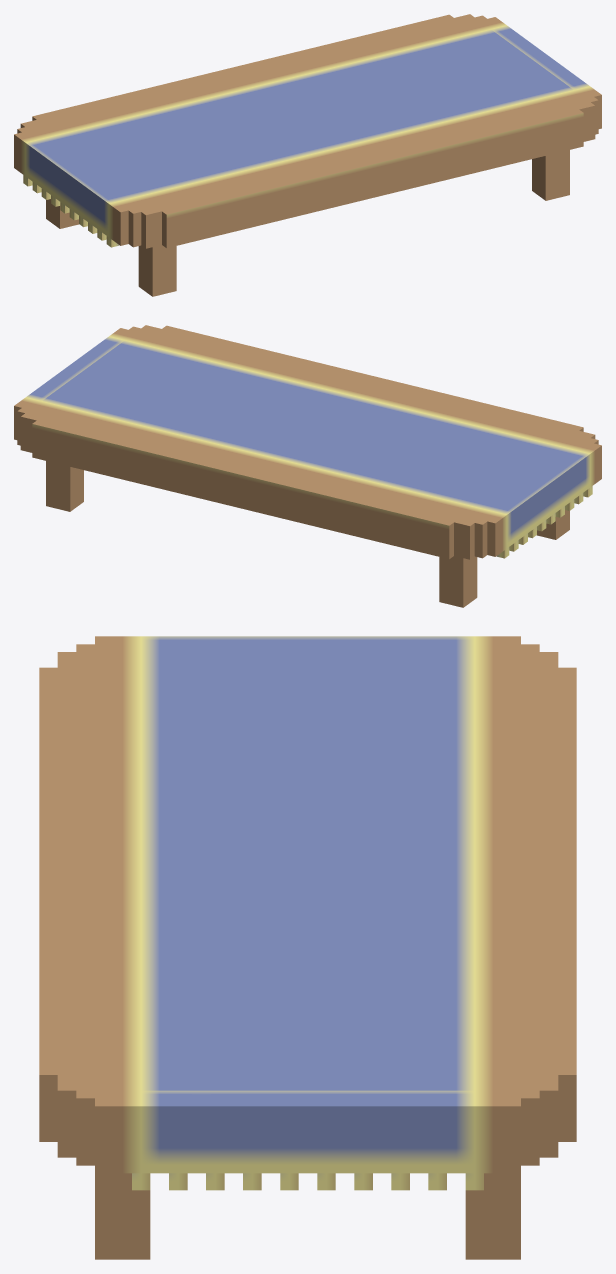
File: Mesa de Canto.obj
3 views of the same model, one above another, from view 1: azimuth 30°, elevation 25°; view 2: azimuth 150°, elevation 25°; view 3: azimuth 270°, elevation 25° (orthographic). The views are drawn at different scales.
Visible parts, largest first — view 1: Model; view 2: Model; view 3: Model.
Boxes of the visible parts, x1,y1,x2,y2 form: Model: [14, 14, 601, 296]; Model: [14, 325, 601, 607]; Model: [39, 636, 576, 1259].
Bounding box in the file's own units: 32 × 5.87 × 15.47.
Materials: 1 (1 with a texture image).
